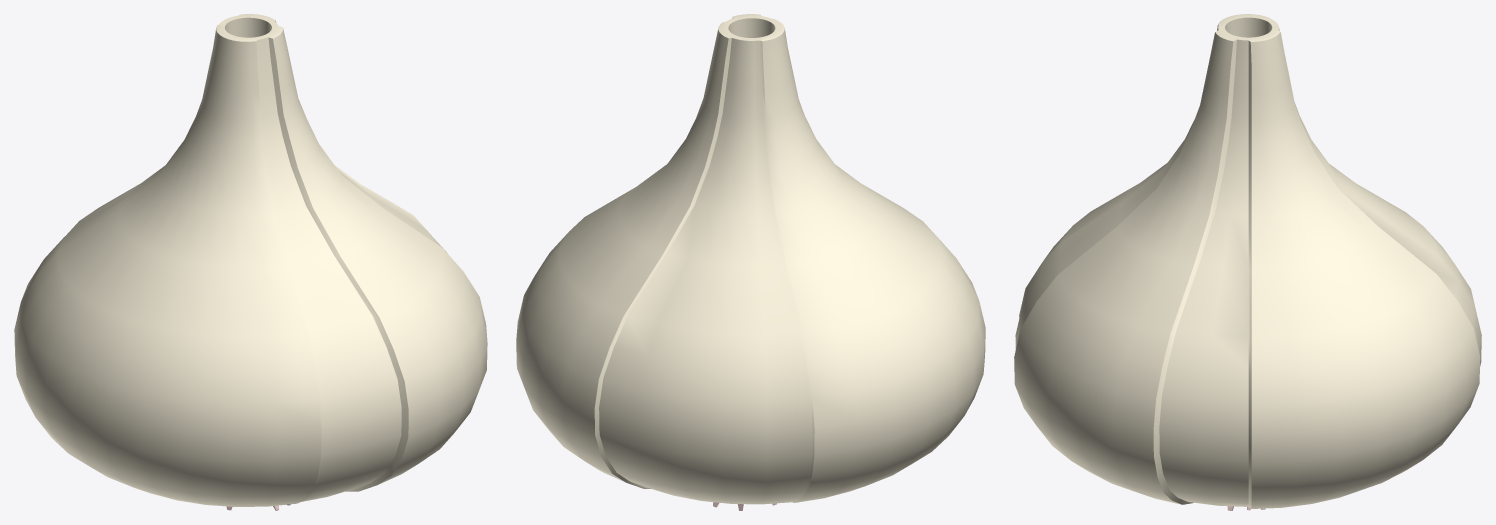
File: garlic.gltf
3 renders of one model, left to right at view 1: azimuth 30°, elevation 25°; view 2: azimuth 150°, elevation 25°; view 3: azimuth 270°, elevation 25°, orthographic.
Parts seen in each view (by area): view 1: Sphere.487; view 2: Sphere.487; view 3: Sphere.487.
Boxes of the visible parts, x1=… form: Sphere.487: x1=14, y1=14, x2=487, y2=510; Sphere.487: x1=516, y1=14, x2=985, y2=510; Sphere.487: x1=1014, y1=14, x2=1481, y2=510.
Size of the model in its own units: 2.13 by 2.3 by 2.11.
Materials: 1 (1 with a texture image).
